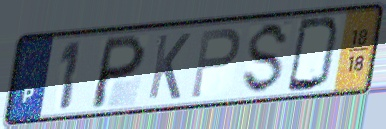1: (58, 39, 82, 112)
D: (284, 16, 343, 94)
K: (145, 31, 193, 102)
P: (87, 31, 149, 110), (188, 26, 243, 101)
S: (239, 20, 293, 98)
